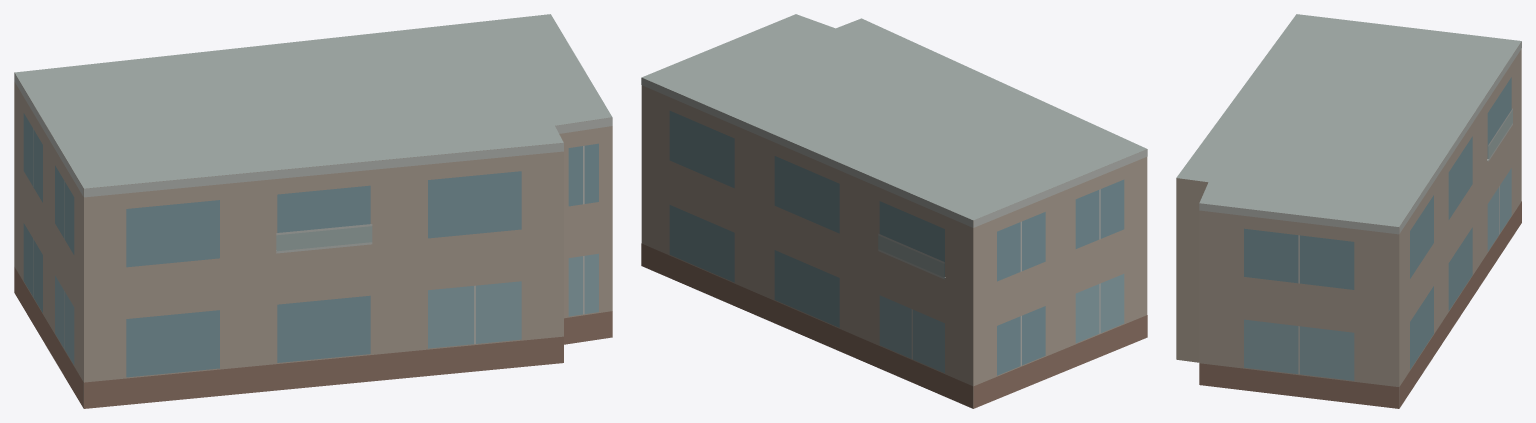
Rendered from survey-upis-33012737.glb.
3 renders of one model, left to right at view 1: azimuth 30°, elevation 25°; view 2: azimuth 150°, elevation 25°; view 3: azimuth 270°, elevation 25°, orthographic. The views are drawn at different scales.
Visible parts, largest first — view 1: survey-upis-33012737.tmp; view 2: survey-upis-33012737.tmp; view 3: survey-upis-33012737.tmp.
Boxes of the visible parts, box(x1,y1,x2,y2) form: survey-upis-33012737.tmp: box(14, 14, 612, 408); survey-upis-33012737.tmp: box(641, 14, 1147, 408); survey-upis-33012737.tmp: box(1176, 14, 1521, 408).
Size of the model in its own units: 15.35 by 6.1 by 10.52.
